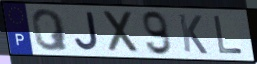9: (140, 10, 173, 57)
J: (74, 11, 101, 52)
K: (177, 12, 210, 56)
L: (212, 15, 246, 56)
Q: (30, 8, 71, 53)
X: (101, 9, 142, 55)
